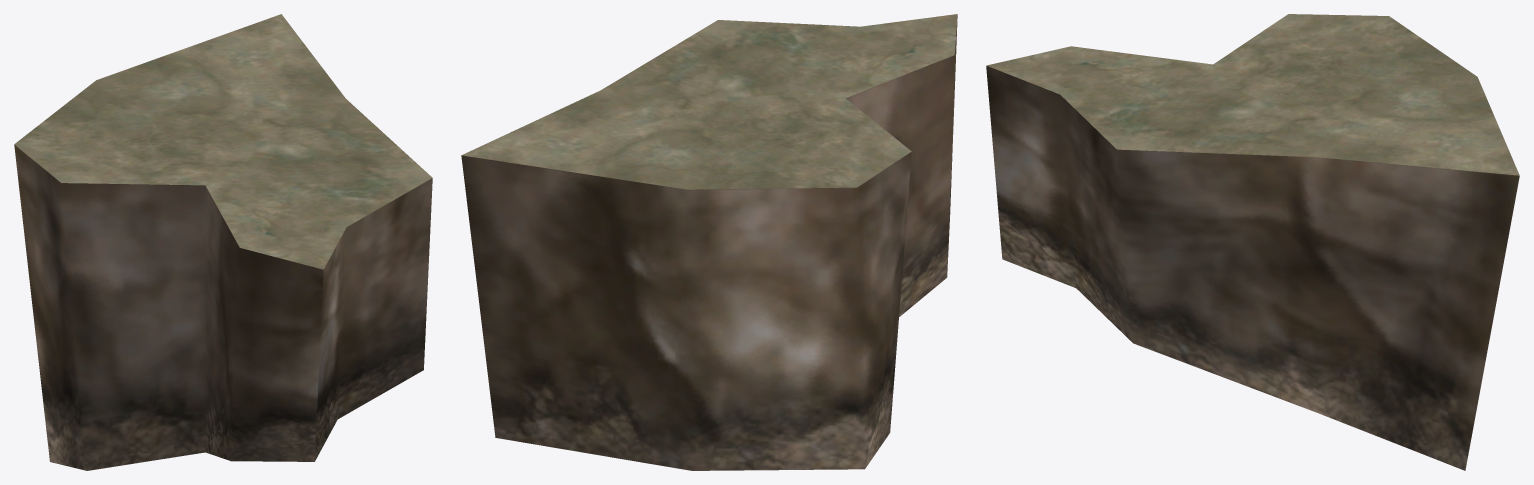
Rendered from ANIMATEDINSTANCES_ROCKFALL_04__BA.obj.
3 renders of one model, left to right at view 1: azimuth 30°, elevation 25°; view 2: azimuth 150°, elevation 25°; view 3: azimuth 270°, elevation 25°, orthographic. The views are drawn at different scales.
Parts seen in each view (by area): view 1: rockfall_04__BA; view 2: rockfall_04__BA; view 3: rockfall_04__BA.
Boxes of the visible parts, x1,y1,x2,y2 form: rockfall_04__BA: (14, 14, 432, 470); rockfall_04__BA: (461, 14, 957, 470); rockfall_04__BA: (986, 14, 1519, 470).
Size of the model in its own units: 136 by 117 by 189.
